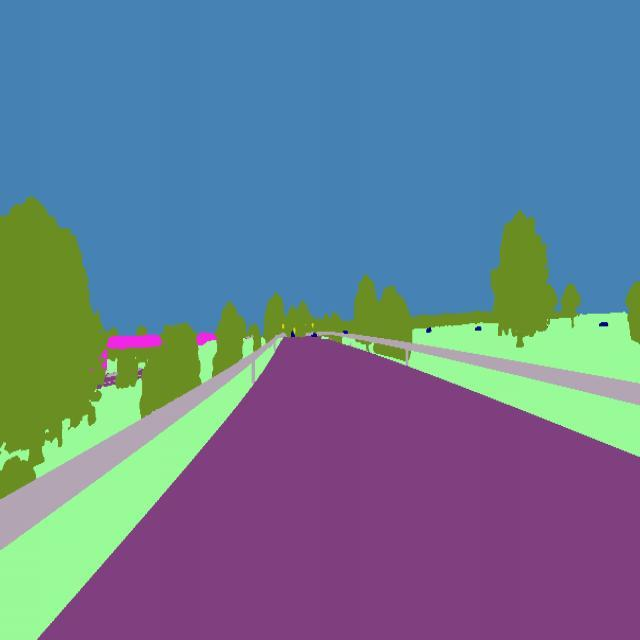safe: (594, 321, 613, 328), (426, 326, 434, 338), (472, 325, 482, 333), (312, 331, 320, 340), (427, 327, 434, 337), (341, 328, 346, 338), (290, 332, 296, 340)
